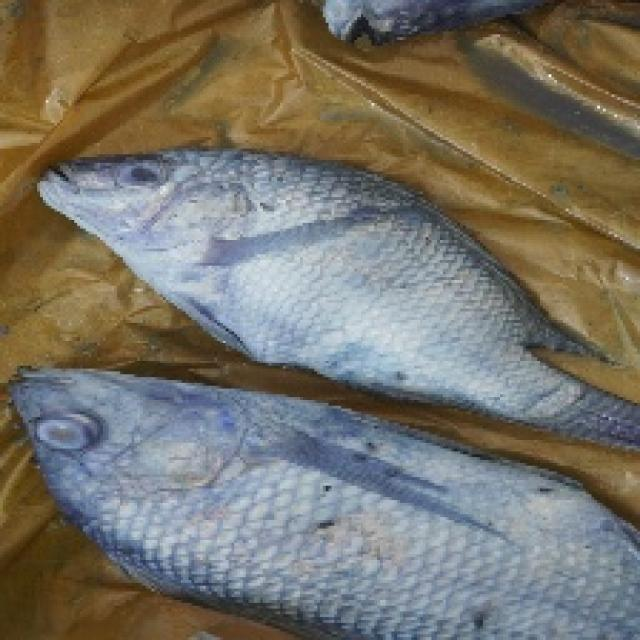Non-Fresh: (52, 136, 536, 347), (29, 388, 484, 587)
